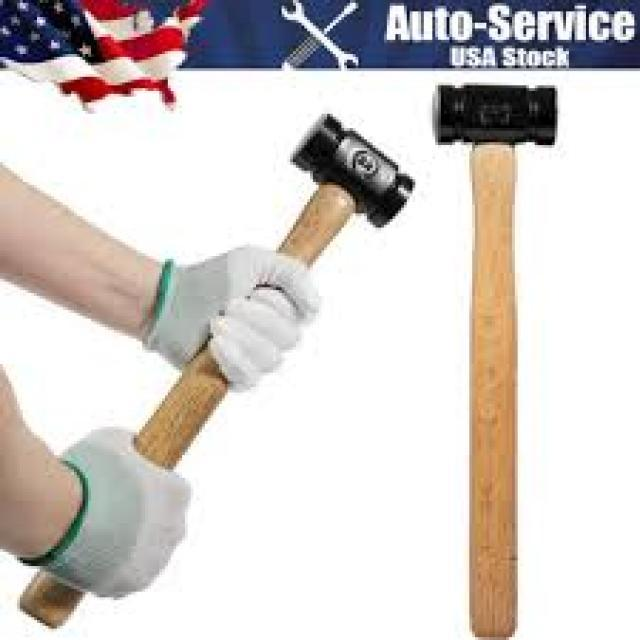hammer: (0, 107, 424, 636), (422, 68, 570, 640)
